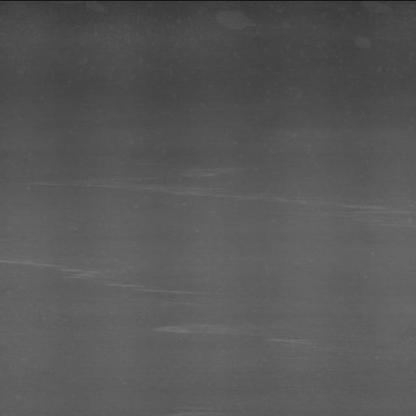silk_spot: (1, 248, 185, 301), (34, 160, 237, 203), (263, 178, 395, 223), (161, 315, 232, 345)
